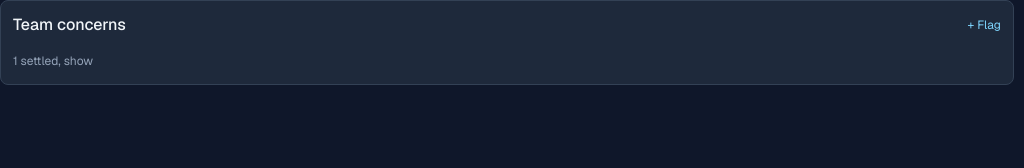
Test case: ConcernStrip › records a withdrawn cancel vote as withdrawn by its author
This screenshot has width=1024, height=168.
Step 1. Click the button with test id "concern-settled-toggle" → (53, 61), box [13,53,93,69]
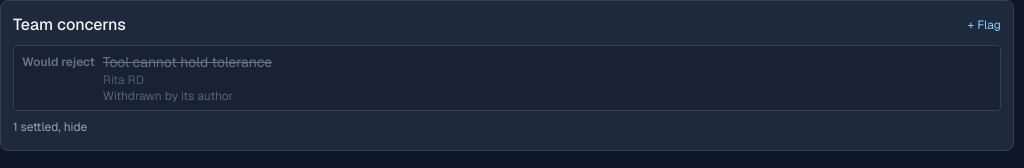
Check: the text with test id "concern-settled-1" reads "Withdrawn by its author", box [103,88,233,104]
